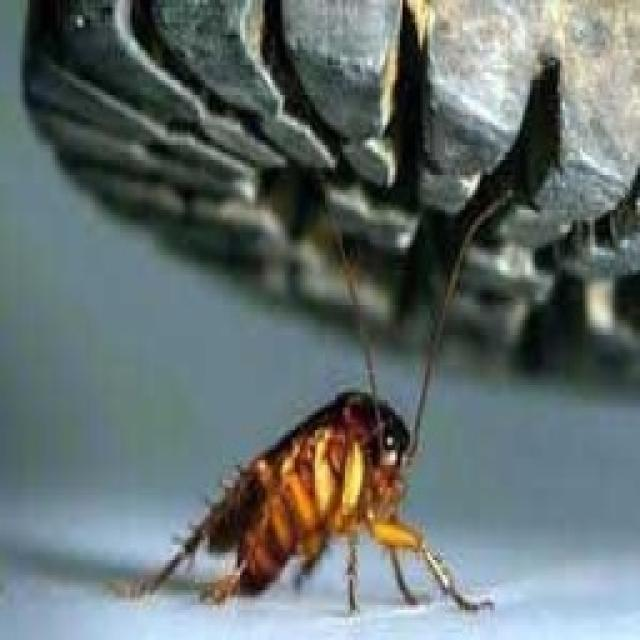cockroach: (123, 253, 473, 640)
